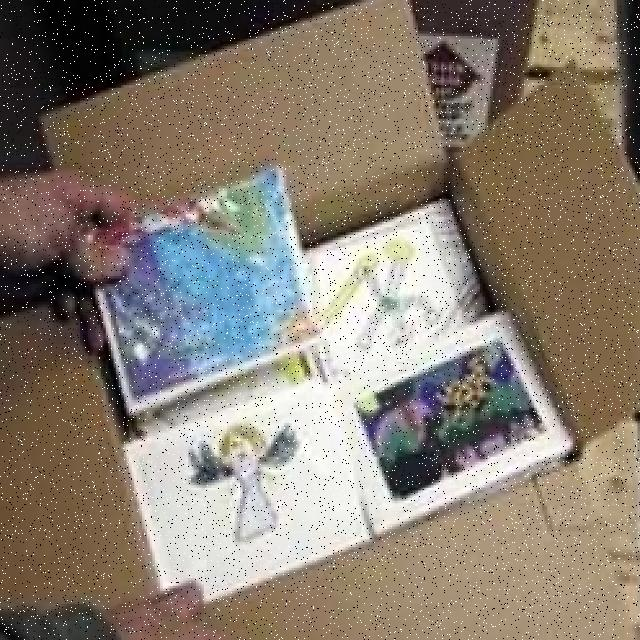box: (20, 0, 640, 573), (354, 0, 529, 178), (570, 416, 640, 624), (529, 0, 614, 70)
